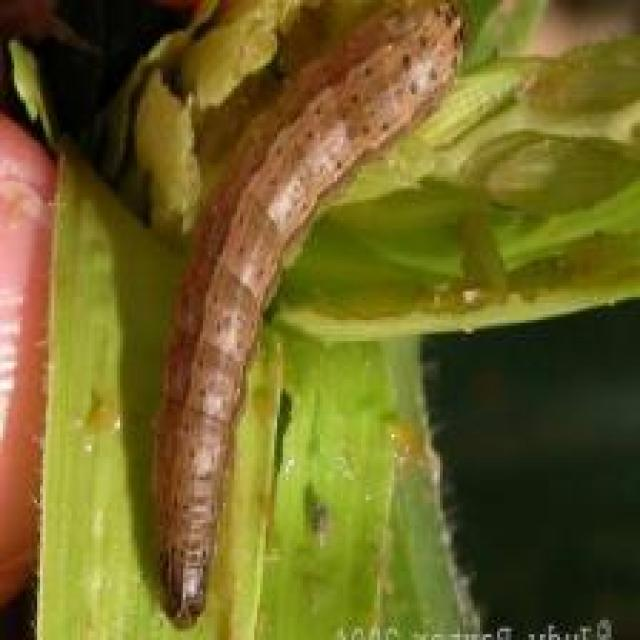Plaga: (146, 1, 475, 635)
